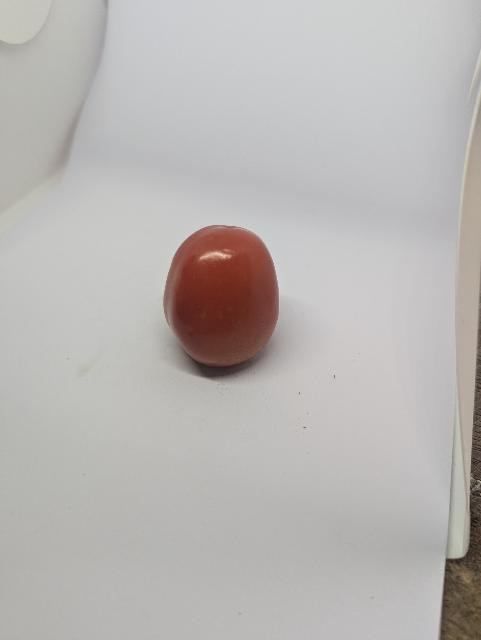red: (154, 220, 295, 382)
